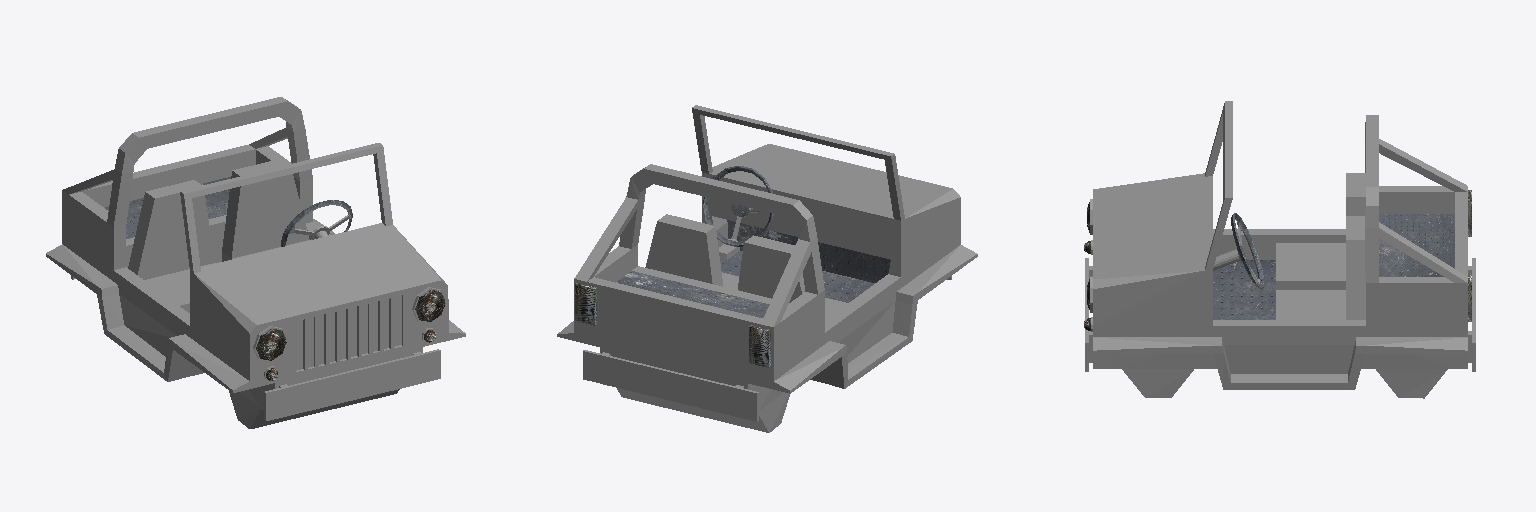
The picture shows the model from 3 angles: view 1: azimuth 30°, elevation 25°; view 2: azimuth 150°, elevation 25°; view 3: azimuth 270°, elevation 25°; orthographic projection.
Parts seen in each view (by area): view 1: Jeep_default.001; view 2: Jeep_default.001; view 3: Jeep_default.001.
Part boxes in pixels (bbox=[...]): Jeep_default.001: bbox=[46, 97, 465, 428]; Jeep_default.001: bbox=[557, 105, 977, 432]; Jeep_default.001: bbox=[1084, 101, 1475, 398].
Bounding box in the file's own units: 10.14 × 8.85 × 14.75.
7 materials, 3 textured.